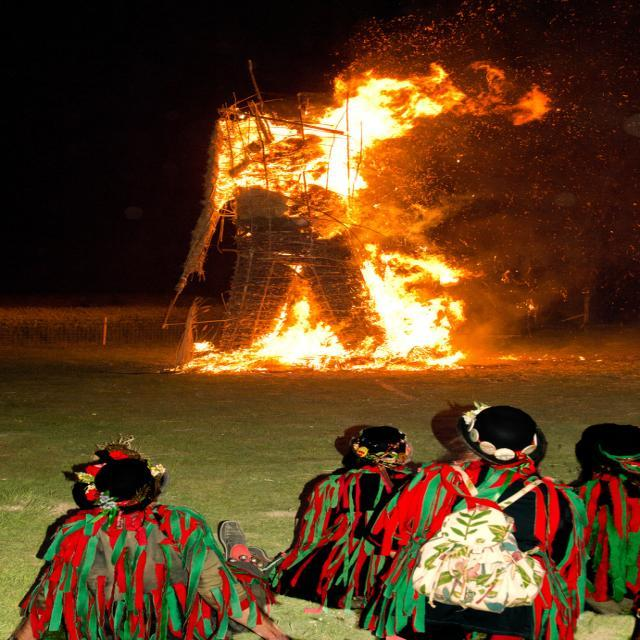Fire: (378, 253, 458, 364), (218, 126, 332, 190), (338, 86, 391, 191), (264, 320, 352, 362)
